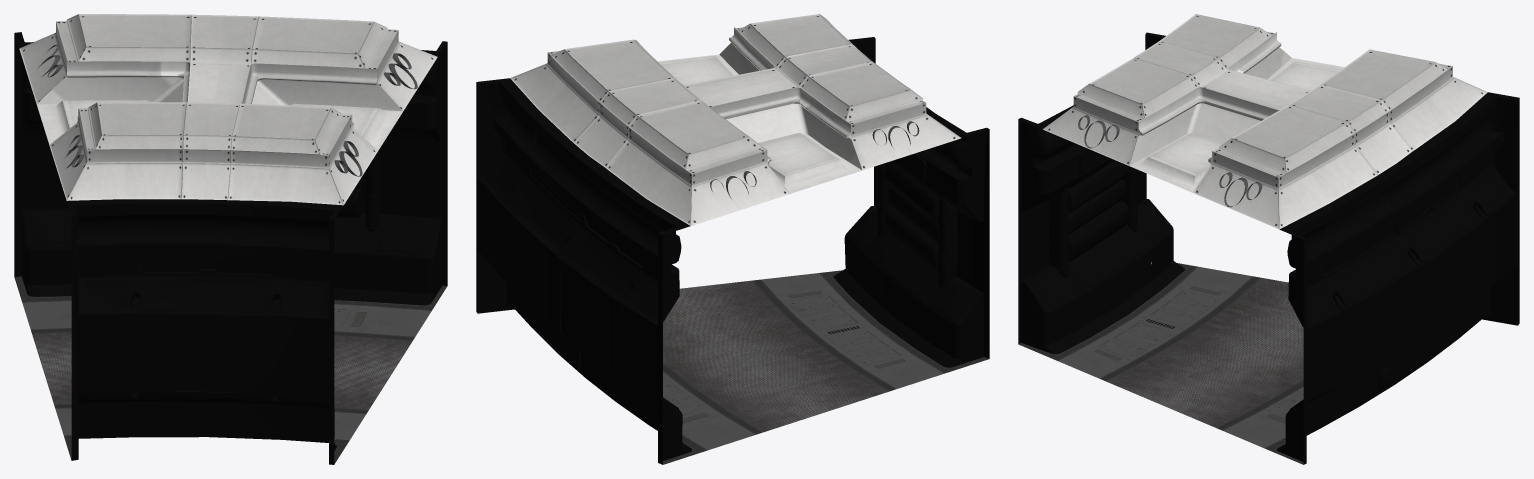
Rendered from HallwayBendC.fbx.
3 renders of one model, left to right at view 1: azimuth 30°, elevation 25°; view 2: azimuth 150°, elevation 25°; view 3: azimuth 270°, elevation 25°, orthographic. The views are drawn at different scales.
Parts seen in each view (by area): view 1: HallwayBendC001; view 2: HallwayBendC001; view 3: HallwayBendC001.
Boxes of the visible parts, x1=… form: HallwayBendC001: x1=14, y1=14, x2=447, y2=464; HallwayBendC001: x1=476, y1=14, x2=989, y2=464; HallwayBendC001: x1=1018, y1=14, x2=1519, y2=464.
Bounding box in the file's own units: 790 × 478 × 808.
